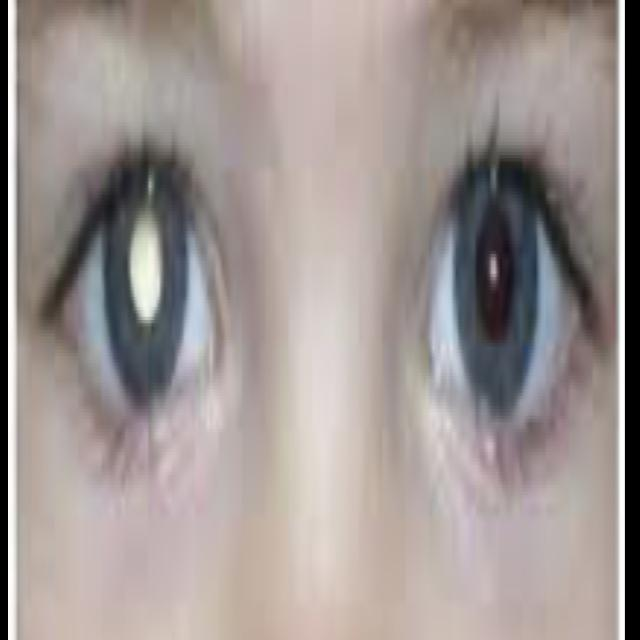reflexo-alterado: (117, 159, 187, 420)
reflexo-normal: (448, 133, 542, 489)
